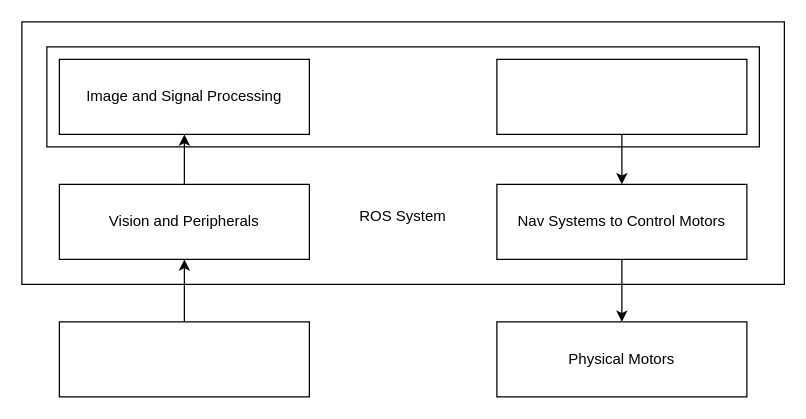
Image size: 806x419. Some labels were removed from this diagram. The shapes that lost their labels are listed below. From the top down, each one's box as (x1, y1, x2, y2) in pixels, then its label:
(46, 46, 759, 147): Control System
(496, 58, 747, 134): Navigation
(58, 321, 309, 397): Physical Sensors
